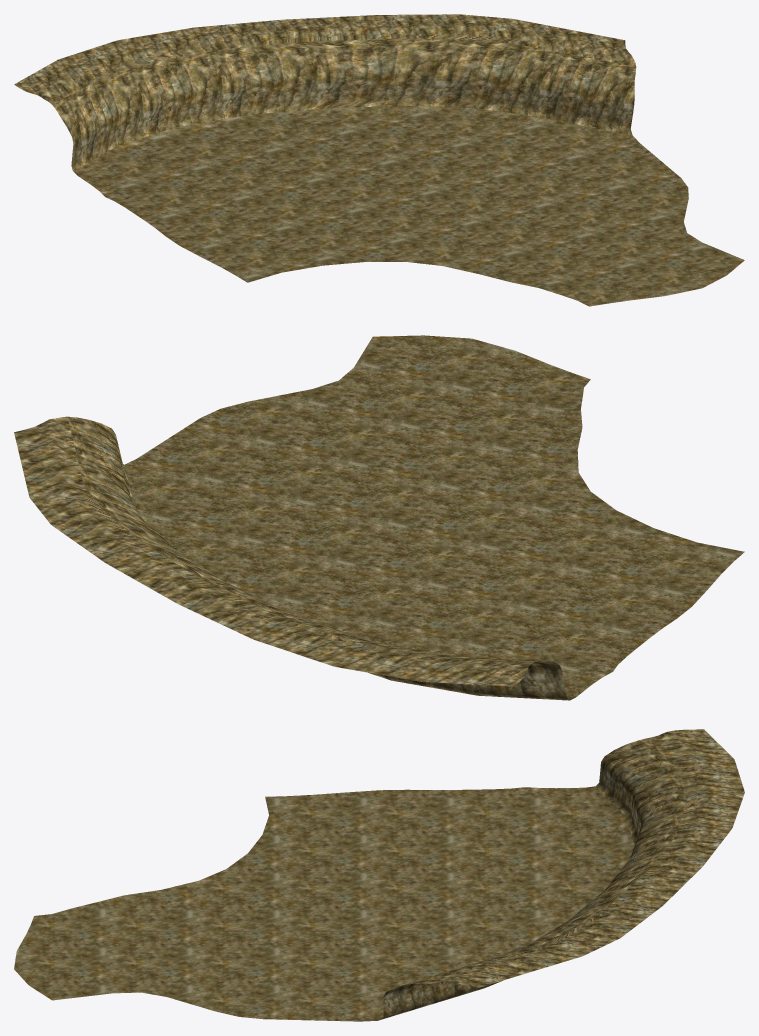
Rendered from RM_PLAYSURFACE_FINAL_OBJECT04.fbx.
The picture shows the model from 3 angles, top to bottom: view 1: azimuth 30°, elevation 25°; view 2: azimuth 150°, elevation 25°; view 3: azimuth 270°, elevation 25°; orthographic projection. The views are drawn at different scales.
Visible parts, largest first — view 1: RM_PLAYSURFACE_FINAL_OBJECT04; view 2: RM_PLAYSURFACE_FINAL_OBJECT04; view 3: RM_PLAYSURFACE_FINAL_OBJECT04.
Boxes of the visible parts, x1=… form: RM_PLAYSURFACE_FINAL_OBJECT04: x1=14, y1=14, x2=744, y2=306; RM_PLAYSURFACE_FINAL_OBJECT04: x1=14, y1=335, x2=744, y2=700; RM_PLAYSURFACE_FINAL_OBJECT04: x1=14, y1=729, x2=744, y2=1021.
Bounding box in the file's own units: 488082 × 48593 × 582458.
2 materials, 2 textured.
